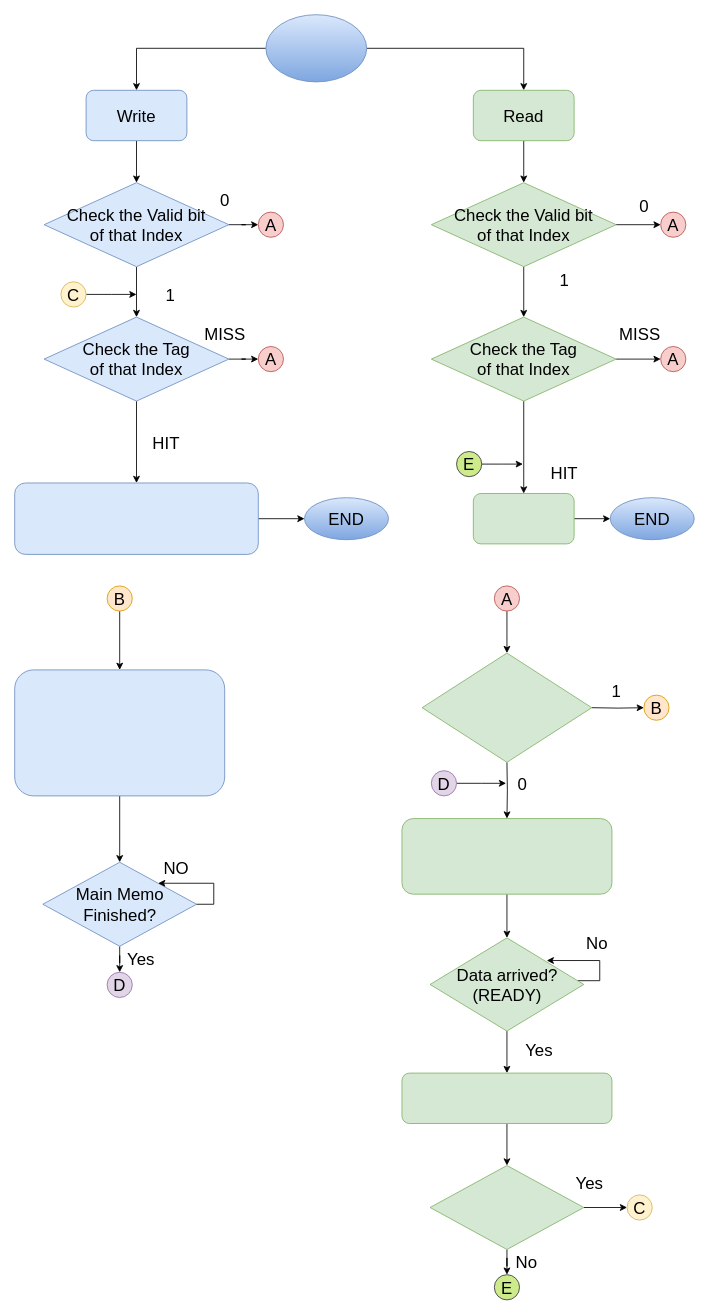
Image size: 709x1315. Some labels were removed from this diagram. The shapes that lost their labels are listed below. From the top down, each one's centre as x and y in pixels, then its label:
At (316,48): "Memory Operation".
At (136,518): "Write the data into Cache and set the Dirty bit".
At (523,518): "Extract Data from Cache".
At (506,707): "Check Dirty Bit of that Index!".
At (119,732): "Write Data into Main Memory at the its Address adr = [old_Tag:Index]".
At (506,856): "Request Data from Main Memory at the Input Address".
At (506,1098): "Update the Cache".
At (506,1207): "Was this a Write?".
